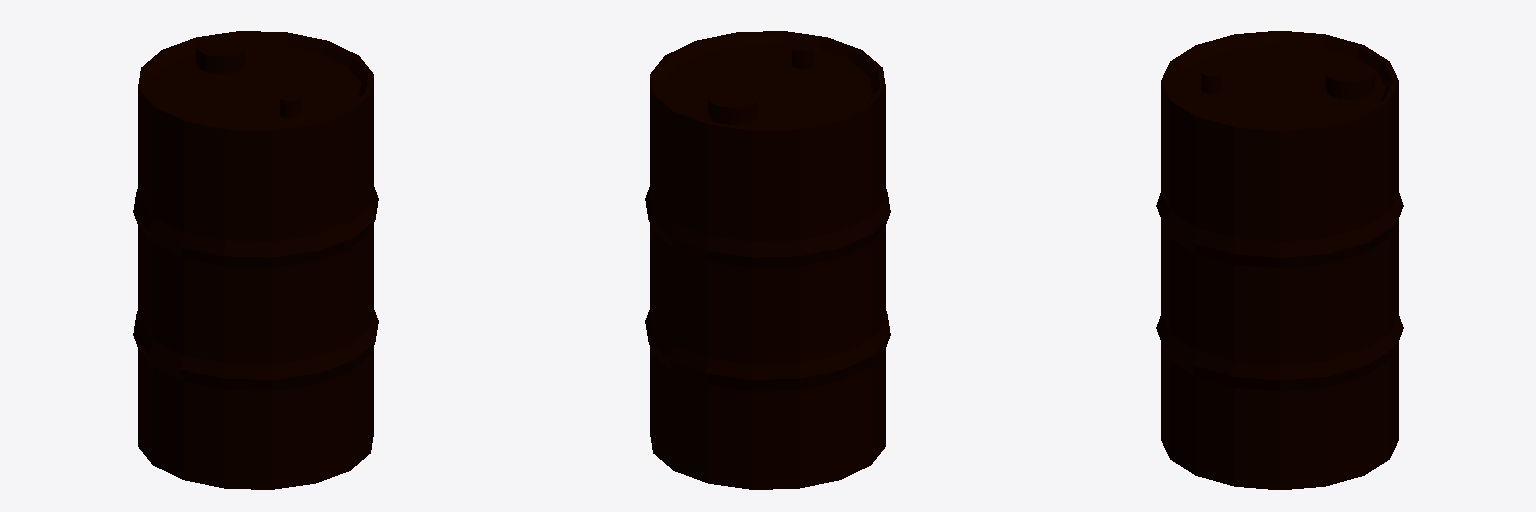
File: Barrel.obj
3 renders of one model, left to right at view 1: azimuth 30°, elevation 25°; view 2: azimuth 150°, elevation 25°; view 3: azimuth 270°, elevation 25°, orthographic.
Visible parts, largest first — view 1: Цилиндр; view 2: Цилиндр; view 3: Цилиндр.
Part boxes in pixels (x1,y1,x2,y2): Цилиндр: (133,31,378,489); Цилиндр: (645,31,890,489); Цилиндр: (1156,31,1403,489).
Bounding box in the file's own units: 2.08 × 3.41 × 2.08.